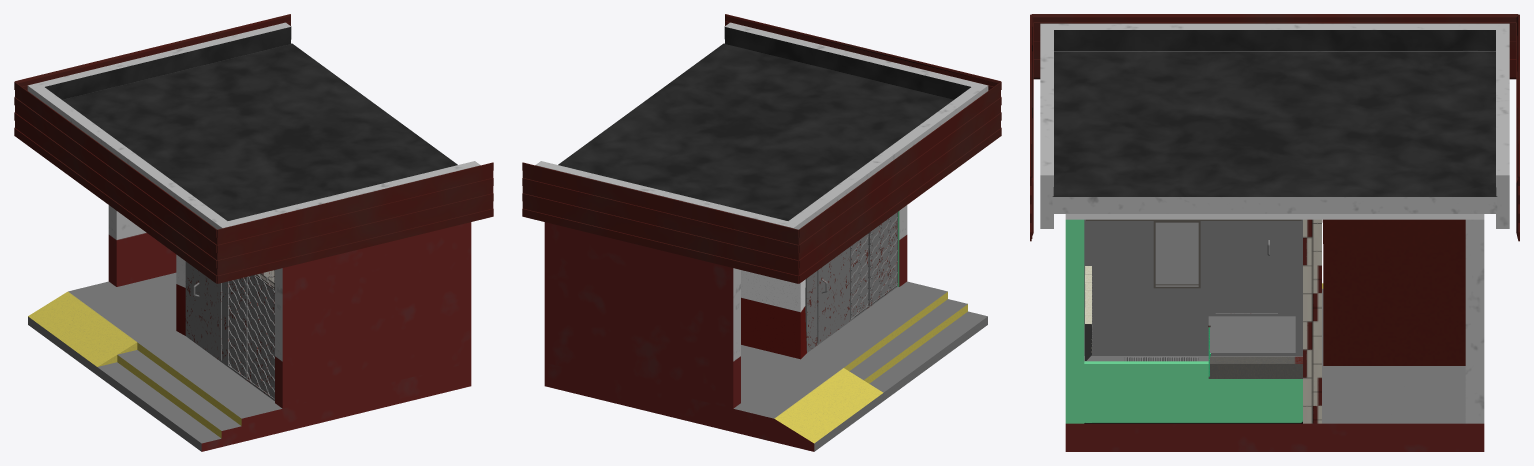
Rendered from Entrance_2.fbx.
3 renders of one model, left to right at view 1: azimuth 30°, elevation 25°; view 2: azimuth 150°, elevation 25°; view 3: azimuth 270°, elevation 25°, orthographic. The views are drawn at different scales.
Visible parts, largest first — view 1: Entrance_roof_metal.004, Entrance_roof.004, Entrance_right_side.004, Entrance_fundament.004, Entrance_face.004, Entrance_left_side.004, Cylinder.037, Entrance_door.004, Entrance_center.004; view 2: Entrance_roof_metal.004, Entrance_roof.004, Entrance_left_side.004, Entrance_fundament.004, Entrance_center.004, Entrance_face.004, Entrance_door.004, Cylinder.037, Entrance_right_side.004; view 3: Entrance_roof.004, Entrance_roof_metal.004, Entrance_fundament.004, Entrance_garbage_door.004, Entrance_face.001, Cube.001, Entrance_face.004, Entrance_door.004, Entrance_left_side.004, Entrance_right_side.004, Entrance_center.004, Entrance_window.004 (+2 smaller).
Boxes of the visible parts, box(x1,y1,x2,y2) form: Entrance_roof_metal.004: box(14, 14, 493, 283); Entrance_roof.004: box(62, 43, 457, 220); Entrance_right_side.004: box(275, 222, 471, 408); Entrance_fundament.004: box(28, 272, 471, 451); Entrance_face.004: box(185, 261, 274, 400); Entrance_left_side.004: box(108, 205, 176, 286); Cylinder.037: box(227, 270, 274, 399); Entrance_door.004: box(193, 268, 222, 360); Entrance_center.004: box(176, 254, 274, 335); Entrance_roof_metal.004: box(522, 14, 1001, 283); Entrance_roof.004: box(558, 43, 953, 220); Entrance_left_side.004: box(544, 222, 740, 408); Entrance_fundament.004: box(544, 281, 987, 451); Entrance_center.004: box(741, 270, 806, 359); Entrance_face.004: box(805, 212, 897, 352); Entrance_door.004: box(817, 251, 844, 343); Cylinder.037: box(850, 212, 897, 319); Entrance_right_side.004: box(897, 205, 907, 286); Entrance_roof.004: box(1052, 51, 1497, 213); Entrance_roof_metal.004: box(1030, 14, 1519, 241); Entrance_fundament.004: box(1065, 283, 1484, 451); Entrance_garbage_door.004: box(1322, 219, 1465, 365); Entrance_face.001: box(1084, 219, 1302, 355); Cube.001: box(1084, 361, 1302, 423); Entrance_face.004: box(1155, 222, 1295, 316); Entrance_door.004: box(1215, 240, 1277, 312); Entrance_left_side.004: box(1465, 219, 1484, 423); Entrance_right_side.004: box(1065, 219, 1084, 423); Entrance_center.004: box(1303, 219, 1321, 423); Entrance_window.004: box(1153, 221, 1200, 288).
Size of the model in its own units: 617 by 494 by 784.
